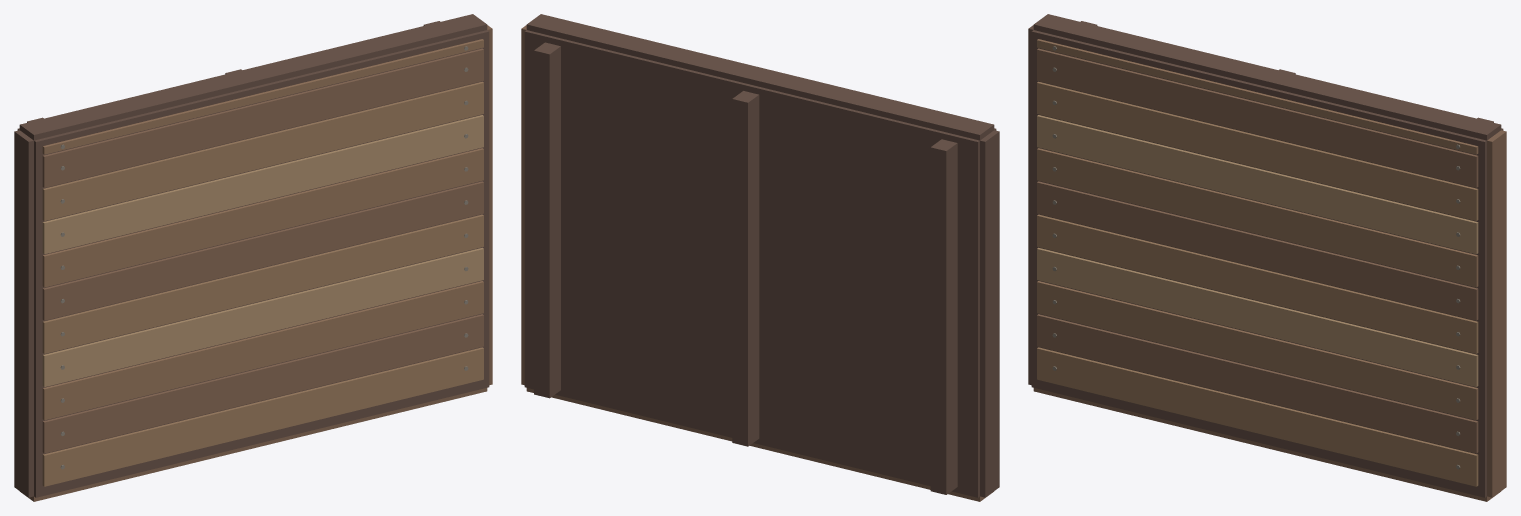
Rendered from mezzanine_platform_4x3.glb.
The picture shows the model from 3 angles, left to right: view 1: azimuth 30°, elevation 25°; view 2: azimuth 150°, elevation 25°; view 3: azimuth 330°, elevation 25°; orthographic projection.
Parts seen in each view (by area): view 1: mezzanine_platform_4x3_000, mezzanine_platform_4x3_007, mezzanine_platform_4x3_022, mezzanine_platform_4x3_001, mezzanine_platform_4x3_019, mezzanine_platform_4x3_025, mezzanine_platform_4x3_004, mezzanine_platform_4x3_013, mezzanine_platform_4x3_010, mezzanine_platform_4x3_016, mezzanine_platform_4x3_028, mezzanine_platform_4x3_037 (+4 smaller); view 2: mezzanine_platform_4x3_000, mezzanine_platform_4x3_038, mezzanine_platform_4x3_039, mezzanine_platform_4x3_040, mezzanine_platform_4x3_037, mezzanine_platform_4x3_036, mezzanine_platform_4x3_034, mezzanine_platform_4x3_035; view 3: mezzanine_platform_4x3_000, mezzanine_platform_4x3_007, mezzanine_platform_4x3_022, mezzanine_platform_4x3_001, mezzanine_platform_4x3_019, mezzanine_platform_4x3_025, mezzanine_platform_4x3_004, mezzanine_platform_4x3_013, mezzanine_platform_4x3_010, mezzanine_platform_4x3_016, mezzanine_platform_4x3_028, mezzanine_platform_4x3_037 (+4 smaller).
Part boxes in pixels (x1,y1,x2,y2): mezzanine_platform_4x3_000: [17, 30, 489, 497]; mezzanine_platform_4x3_007: [42, 281, 483, 420]; mezzanine_platform_4x3_022: [42, 115, 483, 254]; mezzanine_platform_4x3_001: [42, 347, 483, 486]; mezzanine_platform_4x3_019: [42, 148, 483, 287]; mezzanine_platform_4x3_025: [42, 81, 483, 220]; mezzanine_platform_4x3_004: [42, 314, 483, 453]; mezzanine_platform_4x3_013: [42, 214, 483, 353]; mezzanine_platform_4x3_010: [42, 247, 483, 386]; mezzanine_platform_4x3_016: [42, 181, 483, 320]; mezzanine_platform_4x3_028: [42, 48, 483, 187]; mezzanine_platform_4x3_037: [19, 14, 487, 140]; mezzanine_platform_4x3_000: [524, 30, 996, 497]; mezzanine_platform_4x3_038: [930, 139, 957, 494]; mezzanine_platform_4x3_039: [732, 91, 759, 446]; mezzanine_platform_4x3_040: [534, 42, 560, 398]; mezzanine_platform_4x3_037: [526, 14, 994, 140]; mezzanine_platform_4x3_036: [980, 130, 999, 497]; mezzanine_platform_4x3_034: [526, 388, 993, 501]; mezzanine_platform_4x3_035: [521, 25, 526, 385]; mezzanine_platform_4x3_000: [1031, 30, 1503, 497]; mezzanine_platform_4x3_007: [1037, 281, 1478, 420]; mezzanine_platform_4x3_022: [1037, 115, 1478, 254]; mezzanine_platform_4x3_001: [1037, 347, 1478, 486]; mezzanine_platform_4x3_019: [1037, 148, 1478, 287]; mezzanine_platform_4x3_025: [1037, 81, 1478, 220]; mezzanine_platform_4x3_004: [1037, 314, 1478, 453]; mezzanine_platform_4x3_013: [1037, 214, 1478, 353]; mezzanine_platform_4x3_010: [1037, 247, 1478, 386]; mezzanine_platform_4x3_016: [1037, 181, 1478, 320]; mezzanine_platform_4x3_028: [1037, 48, 1478, 187]; mezzanine_platform_4x3_037: [1033, 14, 1501, 140].
Size of the model in its own units: 4.09 by 3.09 by 0.483.
